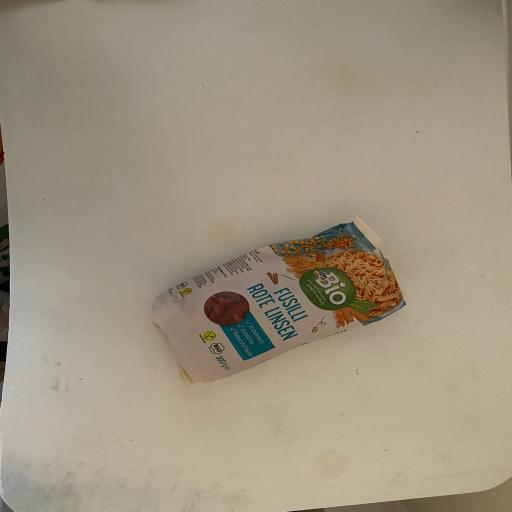pasta_fusili_lentil: (140, 204, 420, 394)
